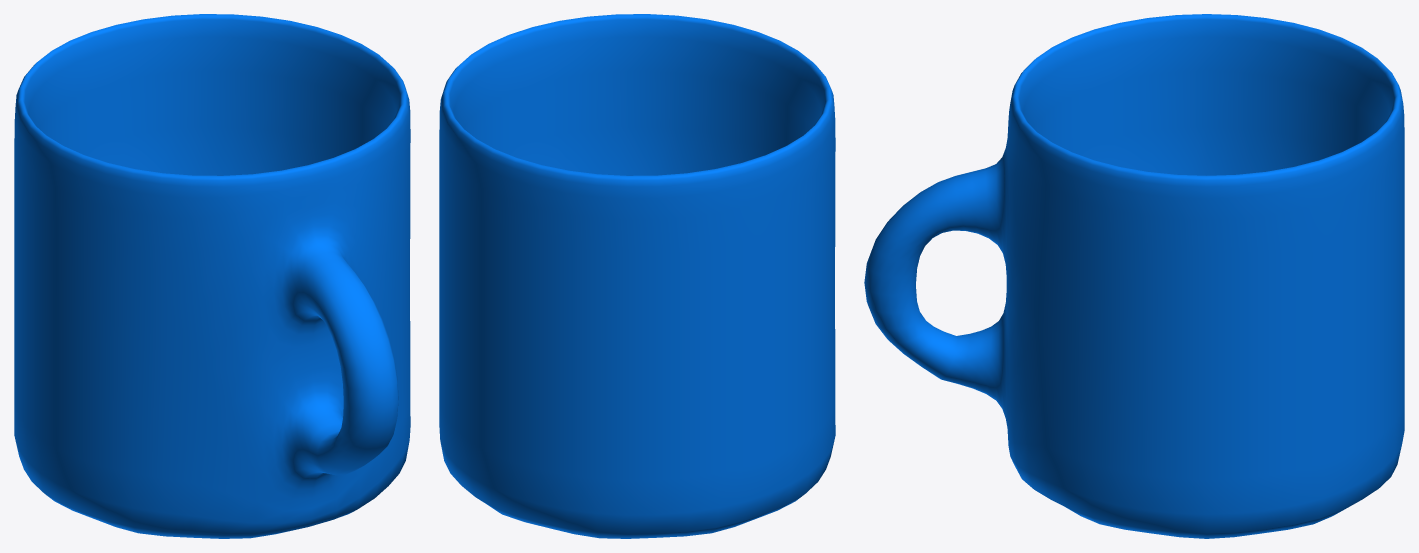
The model's file is mug.obj.
3 renders of one model, left to right at view 1: azimuth 30°, elevation 25°; view 2: azimuth 150°, elevation 25°; view 3: azimuth 270°, elevation 25°, orthographic.
Parts seen in each view (by area): view 1: pCylinder1; view 2: pCylinder1; view 3: pCylinder1.
Part boxes in pixels (x1,y1,x2,y2): pCylinder1: (14, 14, 410, 538); pCylinder1: (439, 14, 835, 538); pCylinder1: (864, 14, 1404, 538).
Bounding box in the file's own units: 1.88 × 1.98 × 2.57.
